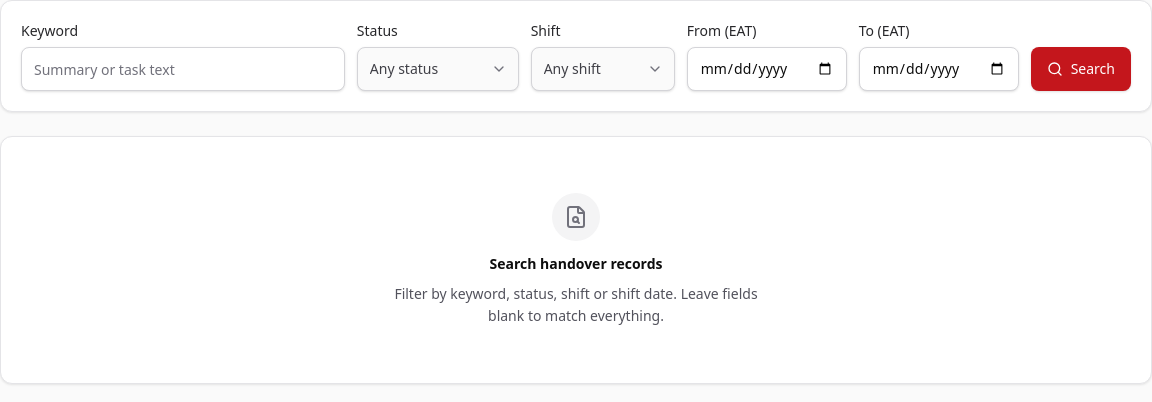
search form (FR-16) › sends the shift filter and EAT day bounds, and lists the results
Select "Night shift" in the dropdown labelled "Shift" at (603, 69), box [531,47,675,91]
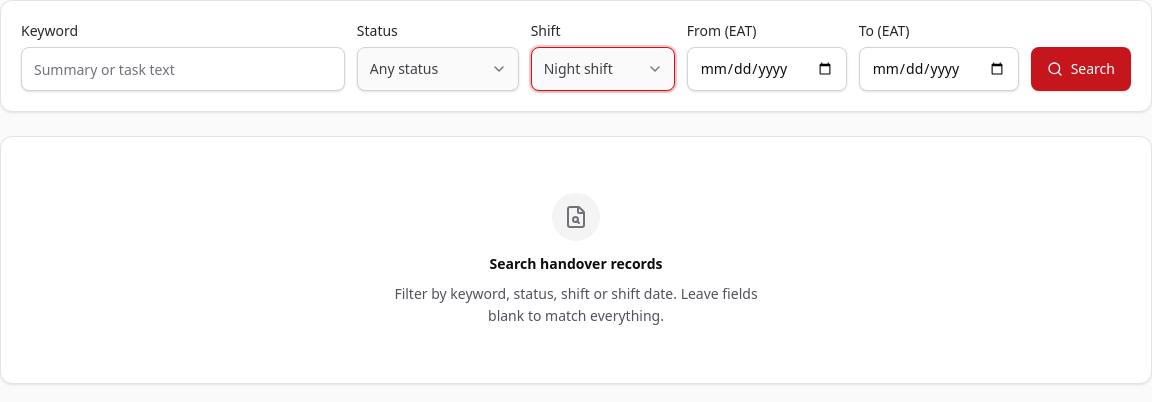
Type "2026-10-01" into the date field labelled "From (EAT)" at (767, 69), box [687,47,847,91]
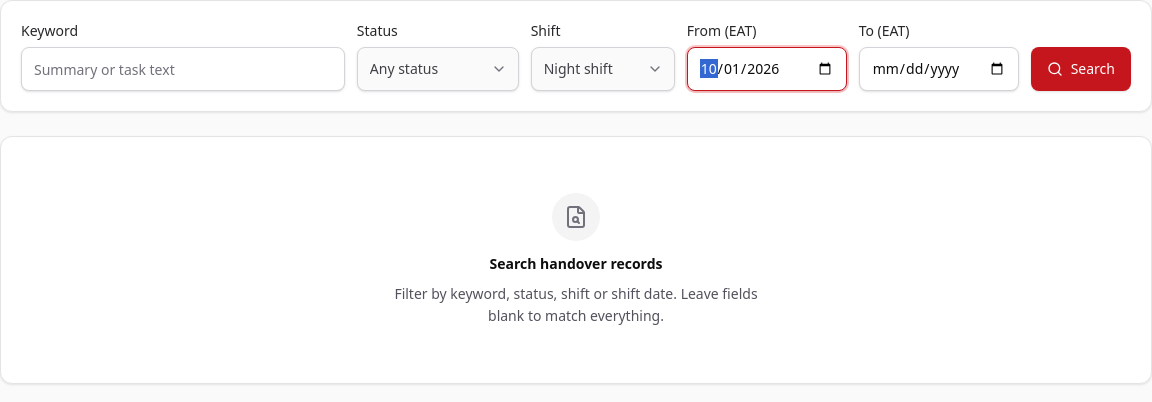
Type "2026-10-13" into the date field labelled "To (EAT)" at (939, 69), box [859,47,1019,91]
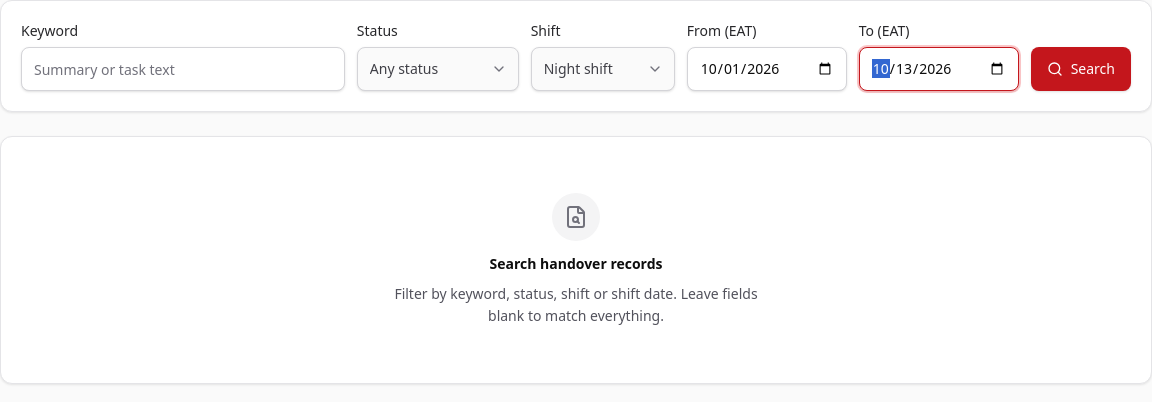
Type "GPU" into the field labelled "Keyword" at (183, 69), box [21,47,345,91]
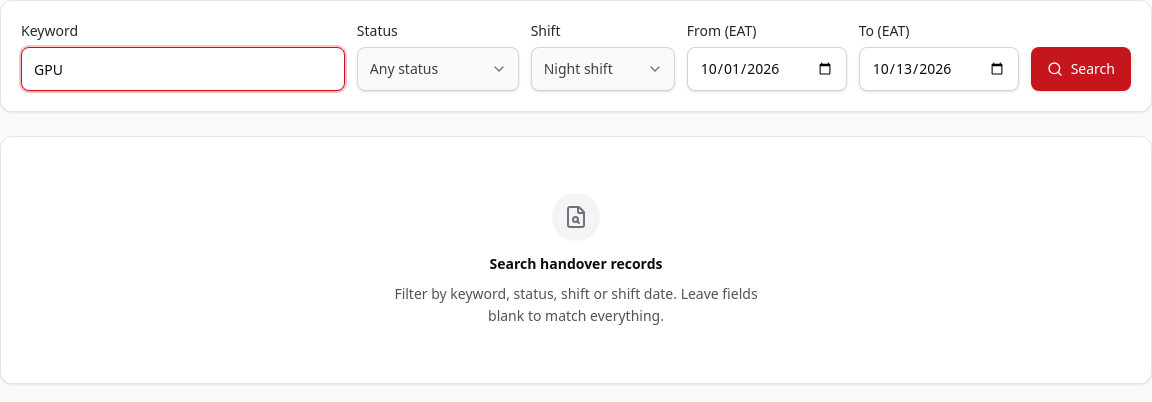
Click the button "Search" at (1081, 69), box [1031,47,1131,91]
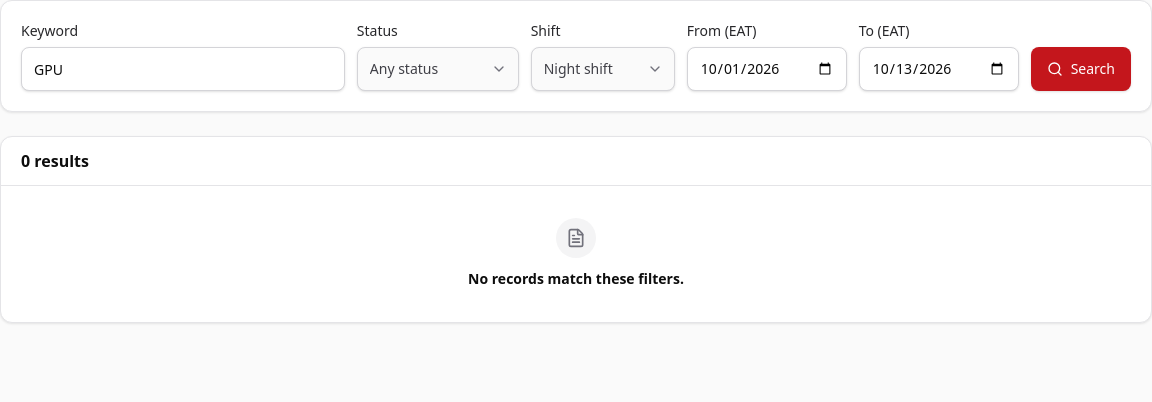
Now the heading "0 results" is shown, box [21,149,89,173]
